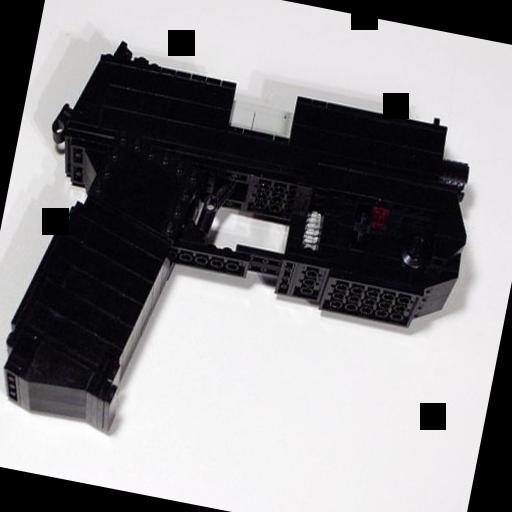Handgun: (0, 31, 490, 484)
